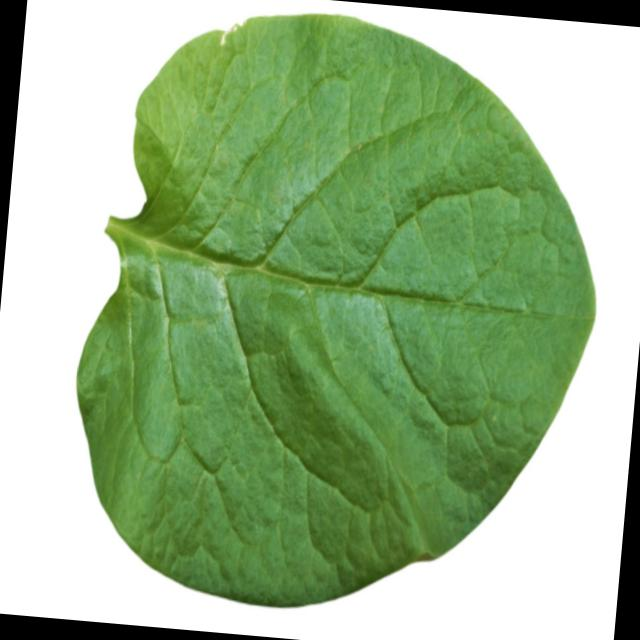Medicinal-Basale: (57, 0, 619, 633)
